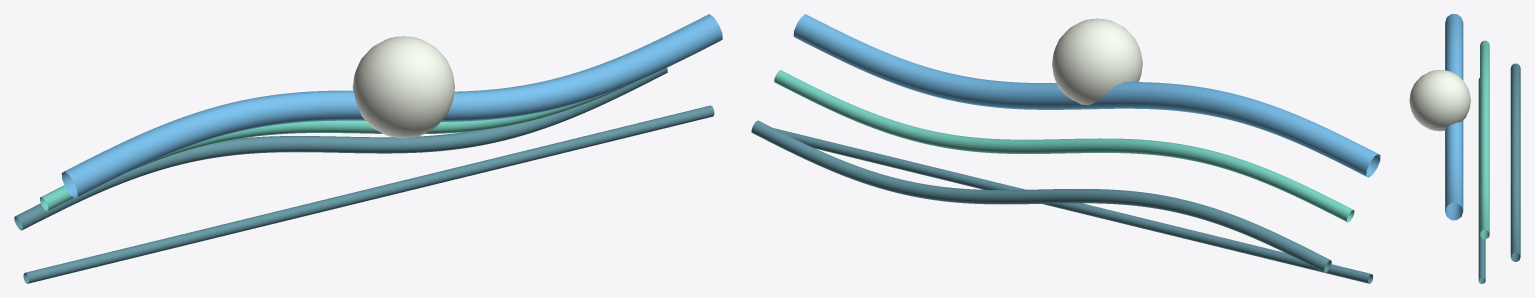
File: resonance.glb
3 renders of one model, left to right at view 1: azimuth 30°, elevation 25°; view 2: azimuth 150°, elevation 25°; view 3: azimuth 270°, elevation 25°, orthographic. The views are drawn at different scales.
Parts seen in each view (by area): view 1: wave_0, still_water, wave_2, buoy, wave_1; view 2: wave_0, wave_2, wave_1, buoy, still_water; view 3: buoy, wave_0, wave_2, wave_1, still_water.
Part boxes in pixels (<box>): wave_0: <box>61,14,722,198</box>; still_water: <box>23,105,714,283</box>; wave_2: <box>14,68,667,230</box>; buoy: <box>352,36,454,138</box>; wave_1: <box>40,80,639,211</box>; wave_0: <box>793,14,1380,177</box>; wave_2: <box>751,120,1331,272</box>; wave_1: <box>774,70,1354,222</box>; buoy: <box>1052,18,1142,109</box>; still_water: <box>773,128,1373,283</box>; buoy: <box>1409,70,1470,131</box>; wave_0: <box>1445,14,1463,220</box>; wave_2: <box>1510,63,1520,261</box>; wave_1: <box>1480,40,1489,238</box>; still_water: <box>1478,78,1485,283</box>.
Bounding box in the file's own units: 3.4 × 0.8738 × 0.795.
